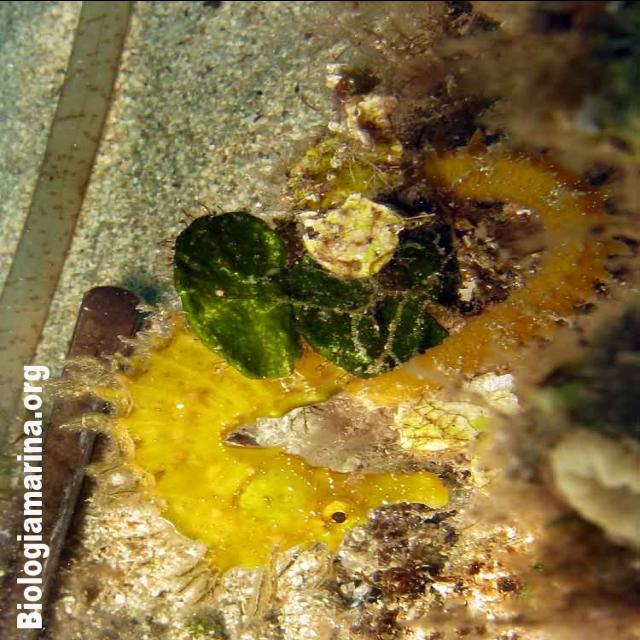Guttu: (196, 442, 458, 580)
